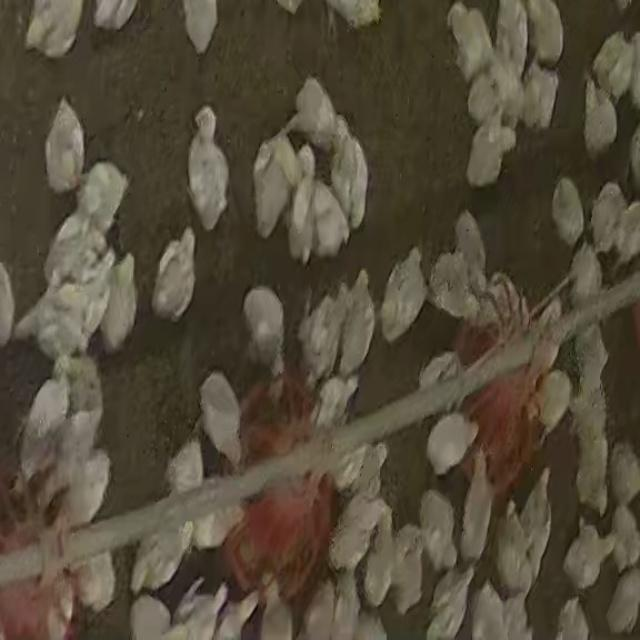chicken: (16, 274, 95, 357), (19, 374, 72, 477), (327, 489, 389, 572), (187, 110, 227, 233), (150, 227, 198, 325), (197, 374, 245, 471), (61, 444, 112, 534), (46, 98, 93, 191), (458, 452, 497, 563), (492, 502, 538, 595), (42, 212, 95, 290), (569, 320, 610, 420), (383, 246, 425, 342), (100, 250, 138, 356), (358, 516, 402, 606), (308, 288, 349, 383), (74, 155, 122, 235), (562, 520, 616, 591), (339, 270, 375, 375), (135, 524, 192, 590), (170, 580, 234, 638), (292, 83, 349, 147), (334, 134, 372, 229), (429, 253, 477, 328), (162, 448, 205, 531), (417, 485, 459, 569), (289, 143, 319, 259), (59, 352, 105, 427), (255, 137, 288, 241), (385, 532, 426, 613), (573, 423, 609, 515), (28, 2, 86, 58), (340, 437, 387, 505), (247, 290, 283, 378), (452, 0, 493, 77), (310, 185, 352, 260), (589, 182, 628, 260), (428, 412, 477, 474), (518, 468, 553, 554), (473, 115, 513, 188), (592, 28, 634, 96), (582, 81, 618, 160), (522, 0, 565, 66), (425, 568, 469, 632), (546, 179, 588, 245), (493, 0, 529, 76), (519, 64, 560, 129), (535, 368, 575, 434), (462, 212, 490, 300), (492, 55, 527, 124), (464, 581, 506, 638), (605, 566, 640, 634), (466, 67, 505, 128), (607, 442, 640, 514), (312, 374, 351, 434), (80, 550, 118, 611), (607, 500, 640, 570), (190, 503, 236, 552), (181, 1, 220, 58), (566, 238, 599, 304), (302, 581, 336, 637), (129, 593, 171, 638), (496, 588, 532, 637), (260, 594, 295, 640), (554, 599, 589, 640), (91, 2, 138, 32), (351, 608, 386, 640), (632, 125, 640, 193)
